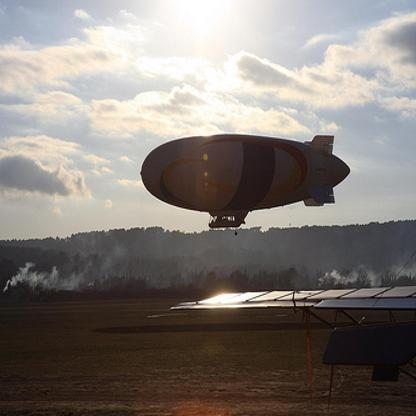Airship: (139, 131, 352, 231)
